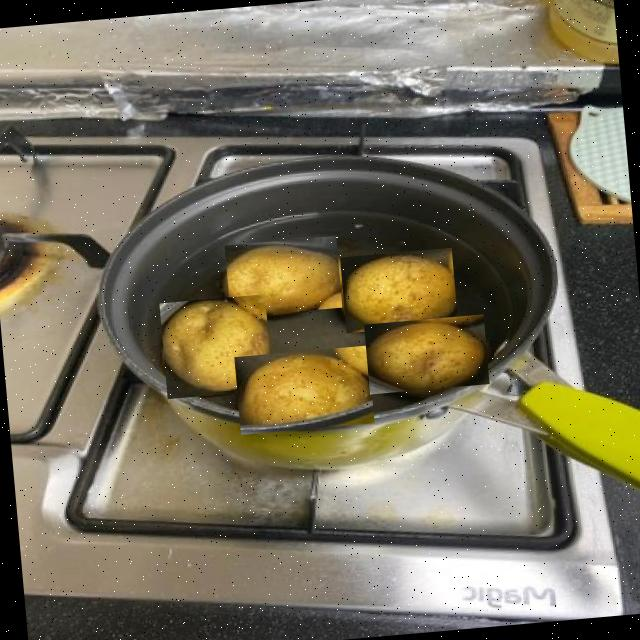Potato: (233, 344, 373, 433), (158, 293, 272, 398), (338, 246, 456, 332), (362, 313, 488, 393), (223, 234, 341, 316)
